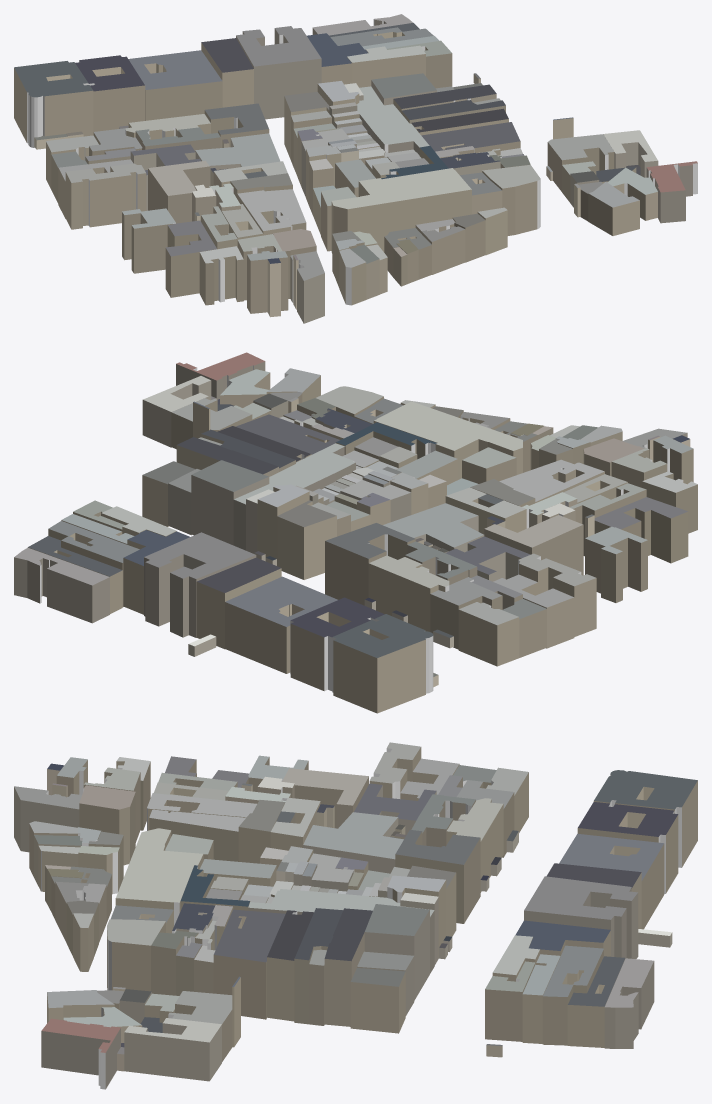
3 renders of one model, top to bottom at view 1: azimuth 30°, elevation 25°; view 2: azimuth 150°, elevation 25°; view 3: azimuth 270°, elevation 25°, orthographic. The views are drawn at different scales.
Parts seen in each view (by area): view 1: tuile; view 2: tuile; view 3: tuile.
Boxes of the visible parts, bbox=[...] form: tuile: bbox=[14, 14, 697, 323]; tuile: bbox=[14, 352, 697, 713]; tuile: bbox=[14, 742, 697, 1089].
Bounding box in the file's own units: 281 × 37.77 × 277.
